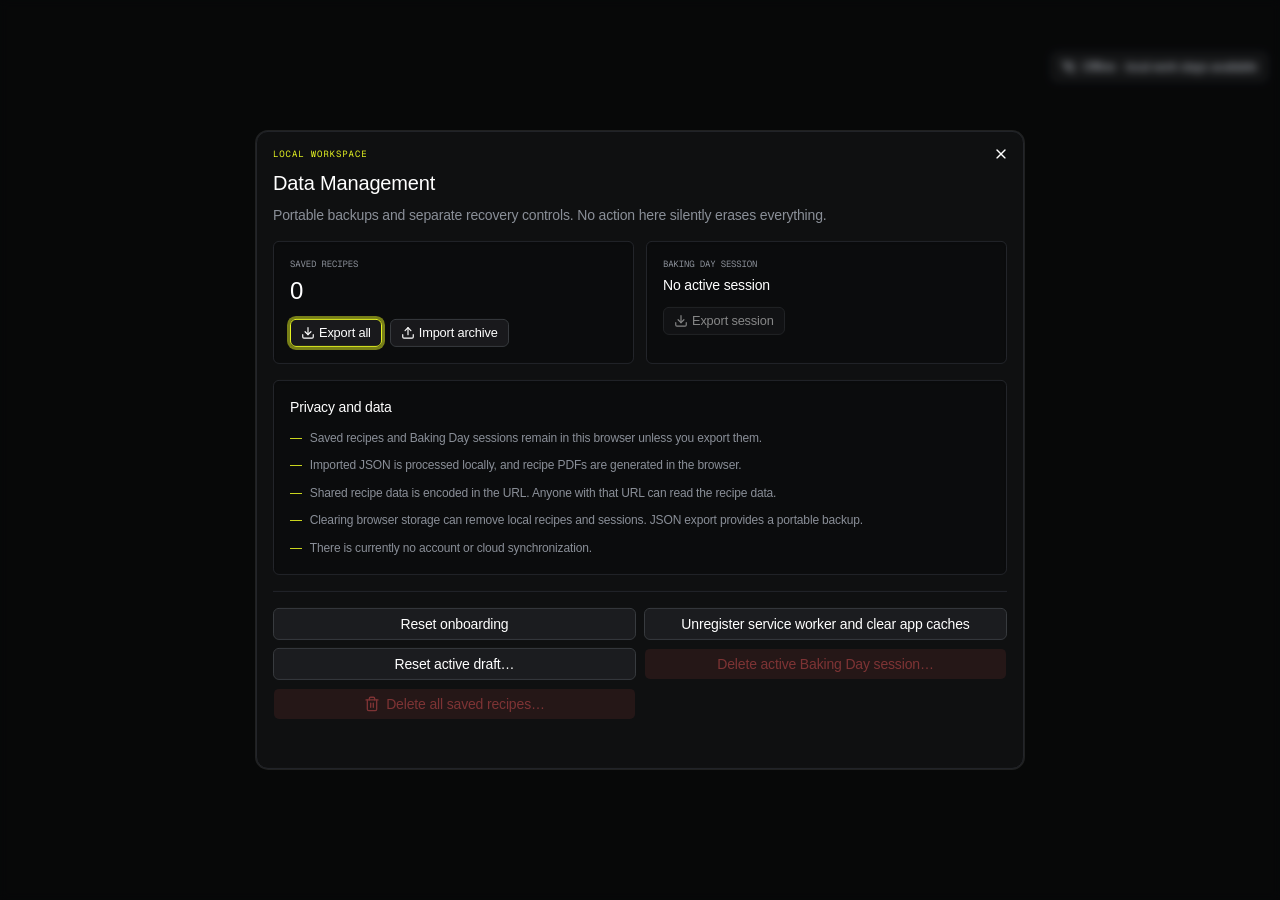
Test: launch interface › confirms a draft reset separately from saved data
The image size is (1280, 900).
Click the button "Reset active draft…".
click(454, 664)  # box [273, 648, 636, 680]
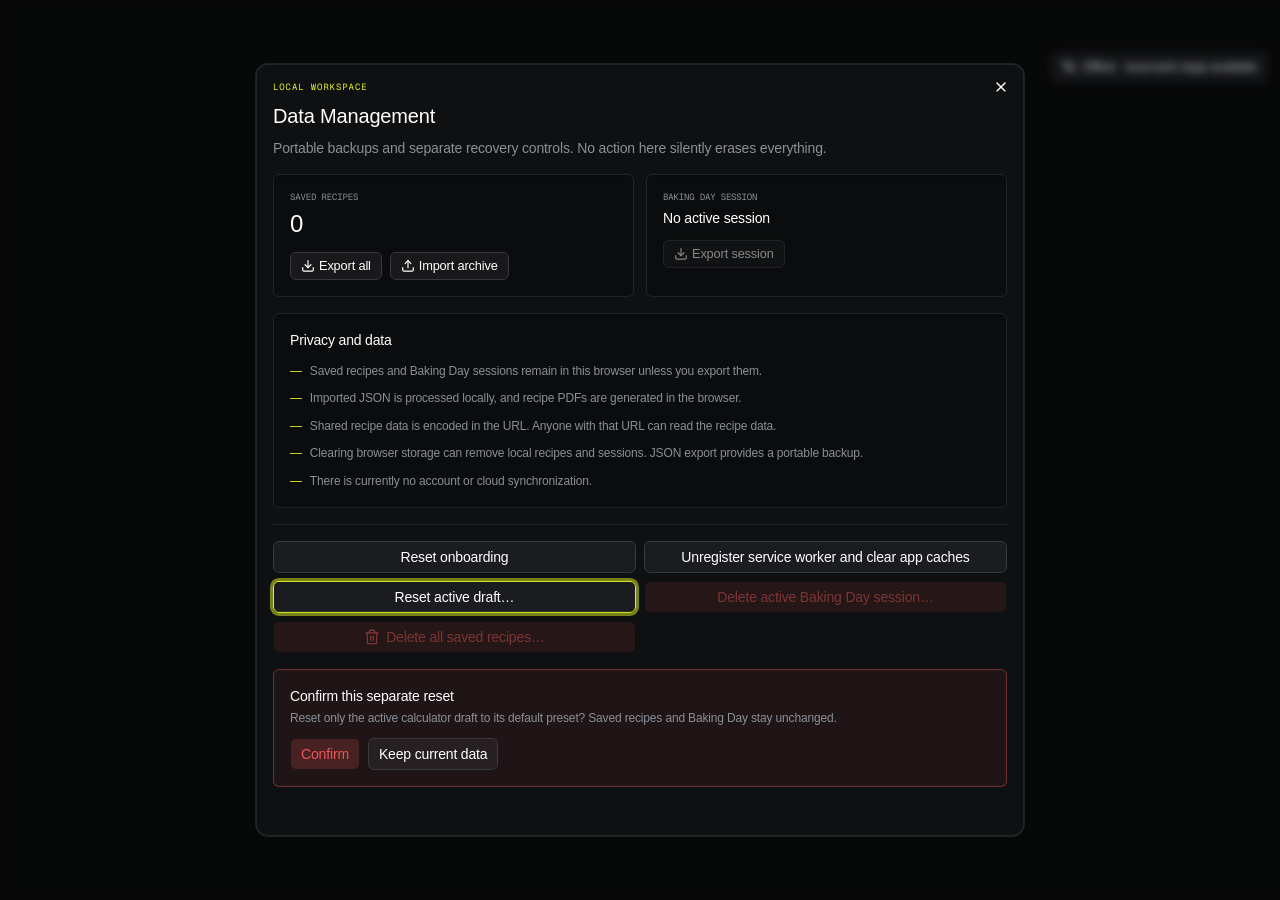
Check: the dialog shows "saved recipes and baking day stay unchanged", box [290, 711, 837, 725]
Click the button "Confirm".
click(325, 754)  # box [290, 738, 360, 770]
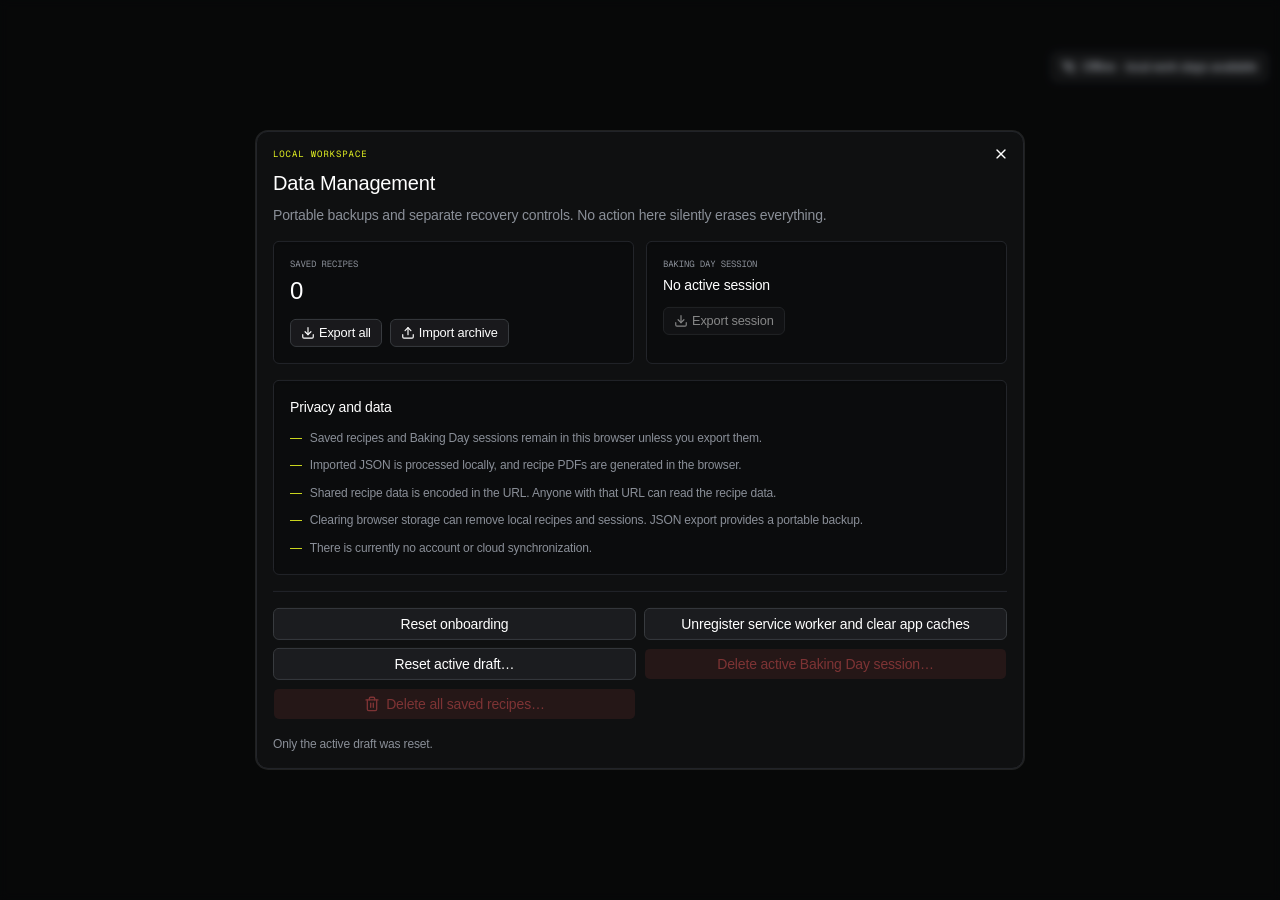
Check: the message shows "Only the active draft was reset", box [273, 737, 433, 751]
